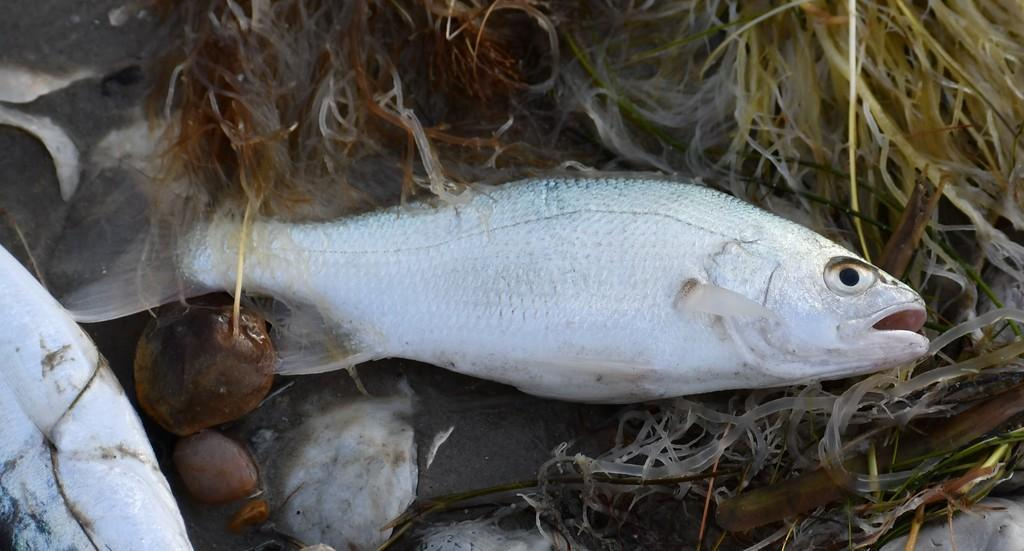Silver Perch: (48, 131, 930, 420)
